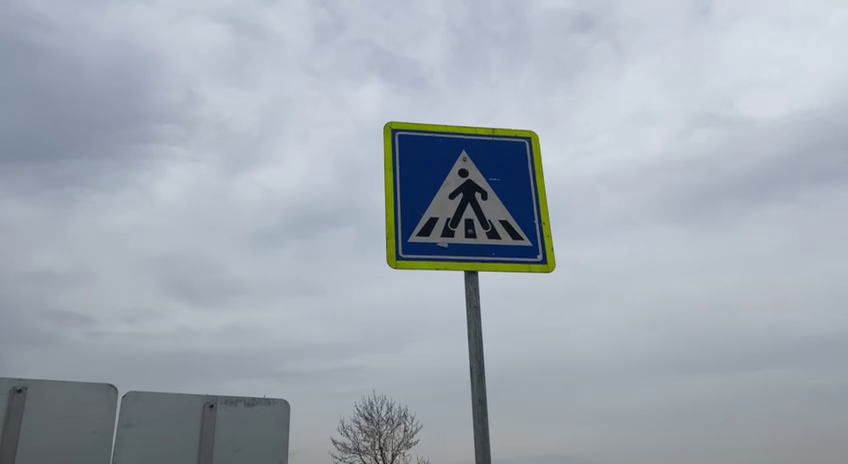pedestrianCrossing: (379, 119, 558, 274)
